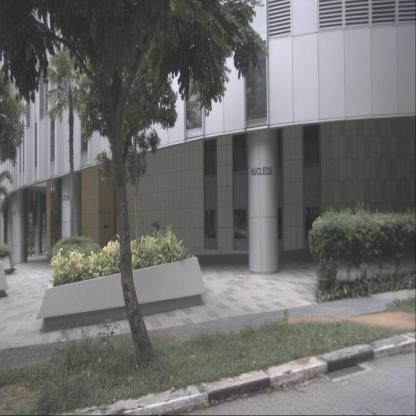human-pedestrian-adult: (106, 236, 116, 286), (54, 233, 60, 260)
